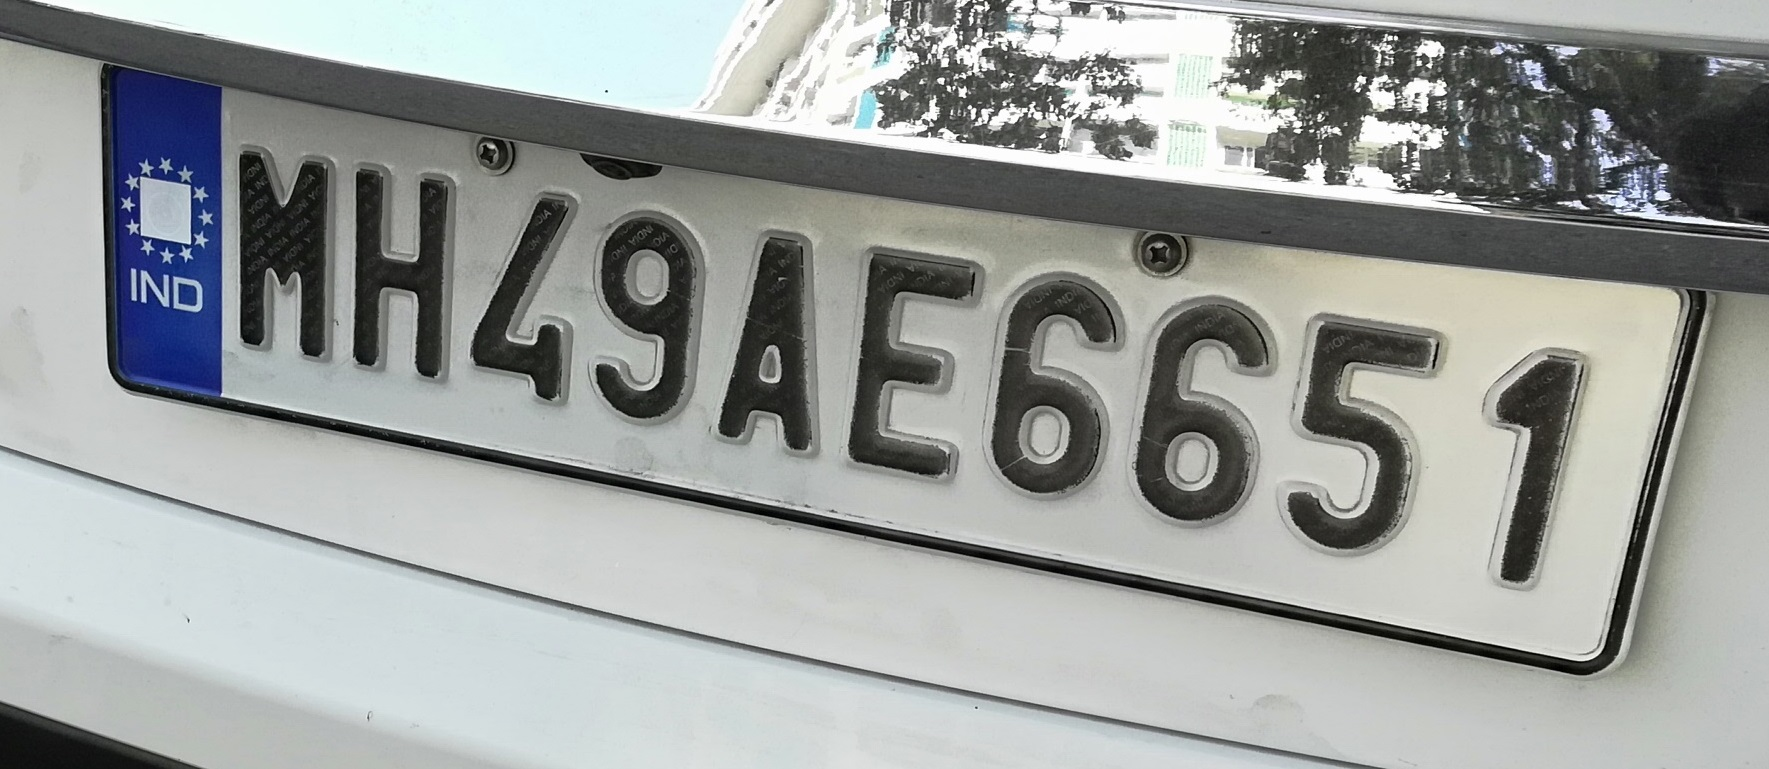numberplate: (92, 57, 1714, 682)
